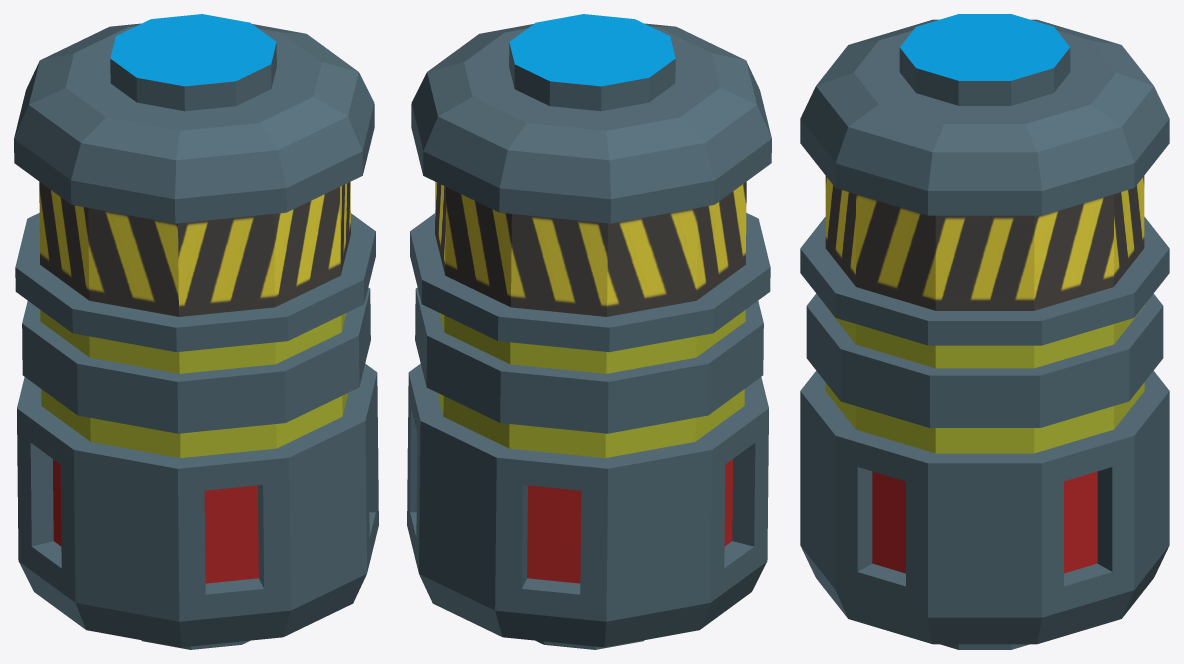
Rendered from Battery1.fbx.
3 views of the same model, side by side, from view 1: azimuth 30°, elevation 25°; view 2: azimuth 150°, elevation 25°; view 3: azimuth 270°, elevation 25° (orthographic).
Visible parts, largest first — view 1: Cylinder.026; view 2: Cylinder.026; view 3: Cylinder.026.
Part boxes in pixels (box(x1,y1,x2,y2)): Cylinder.026: box(14, 14, 378, 649); Cylinder.026: box(407, 14, 771, 649); Cylinder.026: box(800, 14, 1169, 649).
Size of the model in its own units: 0.5066 by 0.8905 by 0.5249.
